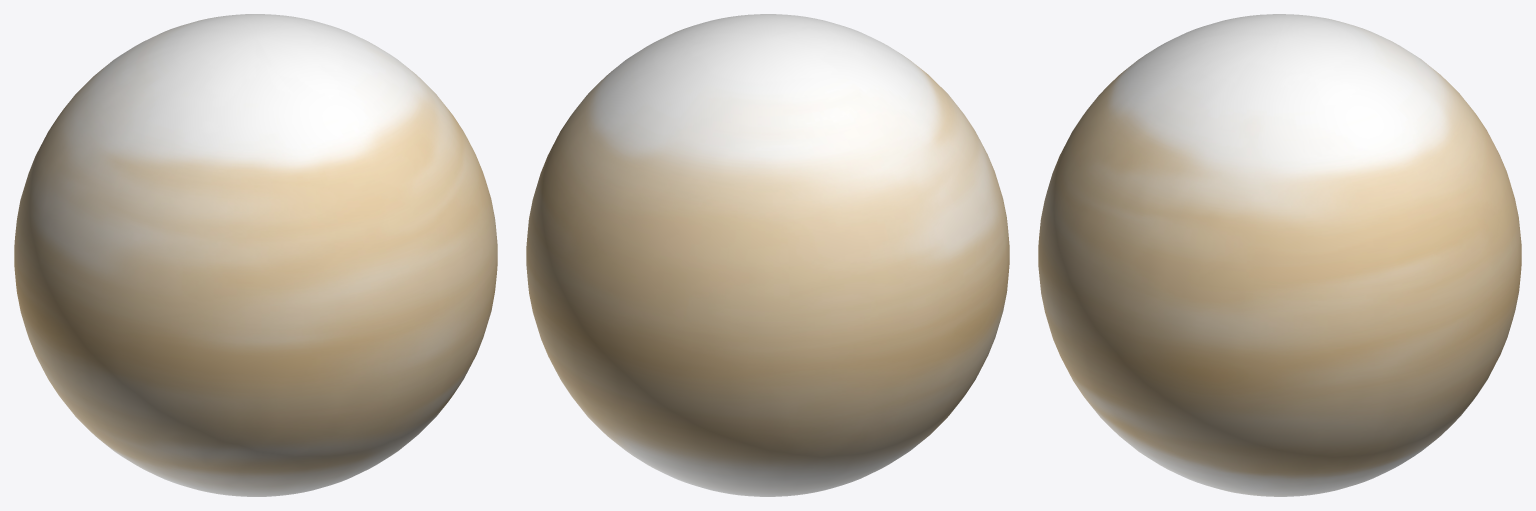
The model's file is mercury.glb.
3 views of the same model, side by side, from view 1: azimuth 30°, elevation 25°; view 2: azimuth 150°, elevation 25°; view 3: azimuth 270°, elevation 25° (orthographic).
Visible parts, largest first — view 1: cylindrically_mapped_sphere:Mesh; view 2: cylindrically_mapped_sphere:Mesh; view 3: cylindrically_mapped_sphere:Mesh.
Boxes of the visible parts, bbox=[...] form: cylindrically_mapped_sphere:Mesh: bbox=[14, 14, 497, 496]; cylindrically_mapped_sphere:Mesh: bbox=[526, 14, 1009, 496]; cylindrically_mapped_sphere:Mesh: bbox=[1038, 14, 1521, 496].
Bounding box in the file's own units: 1000 × 1000 × 1000.
Materials: 1 (1 with a texture image).
